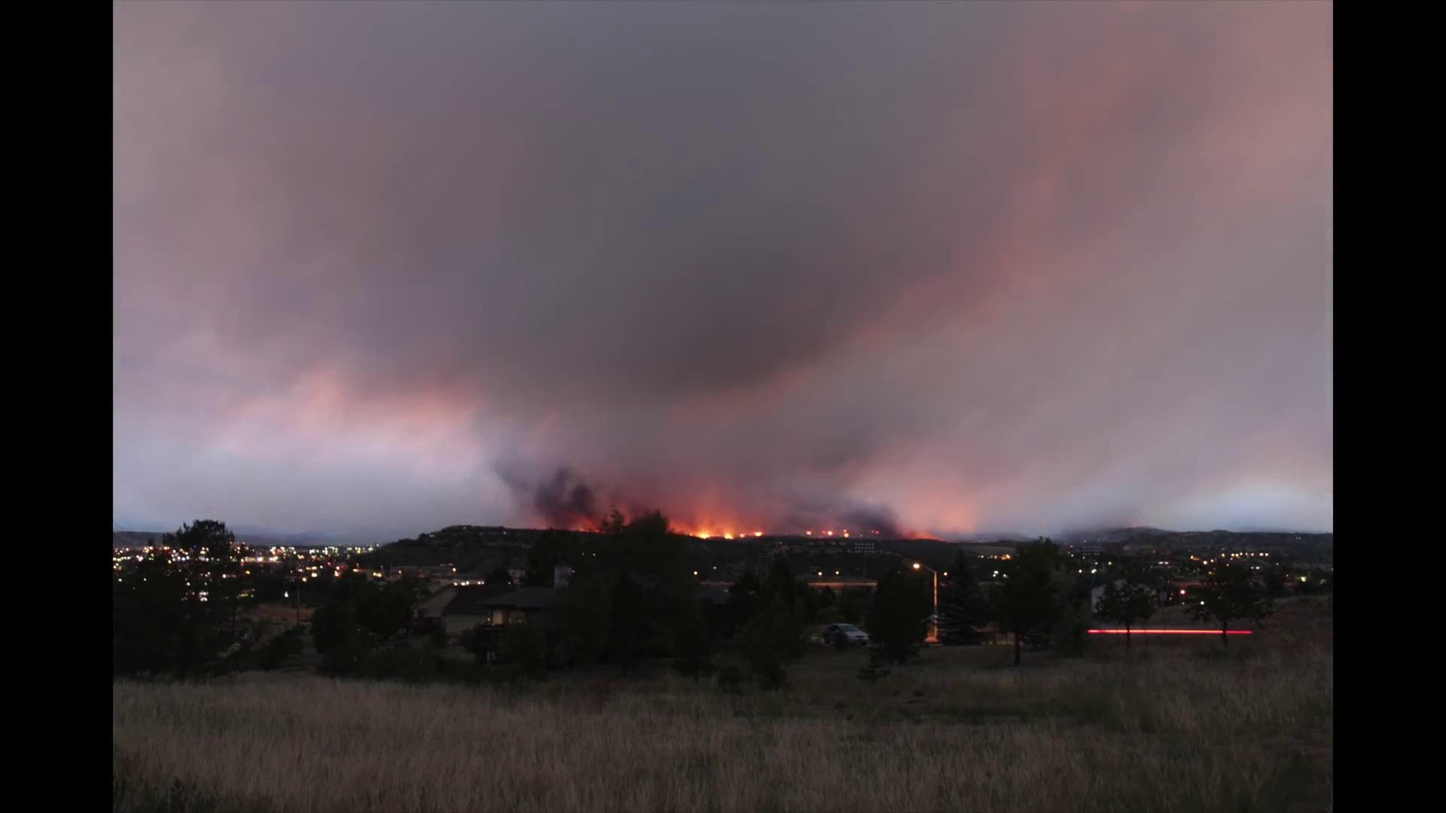fire: (695, 528, 734, 544), (825, 525, 849, 537), (753, 528, 764, 536)
